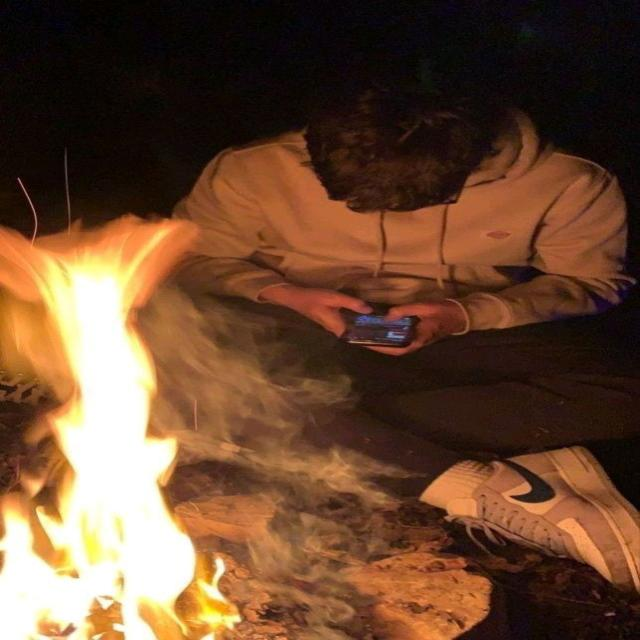fire: (0, 218, 240, 639)
